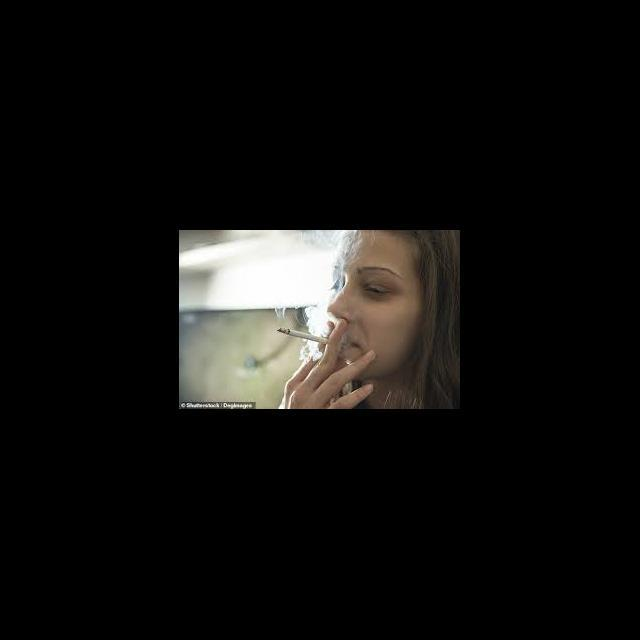Smoke: (296, 305, 332, 362)
